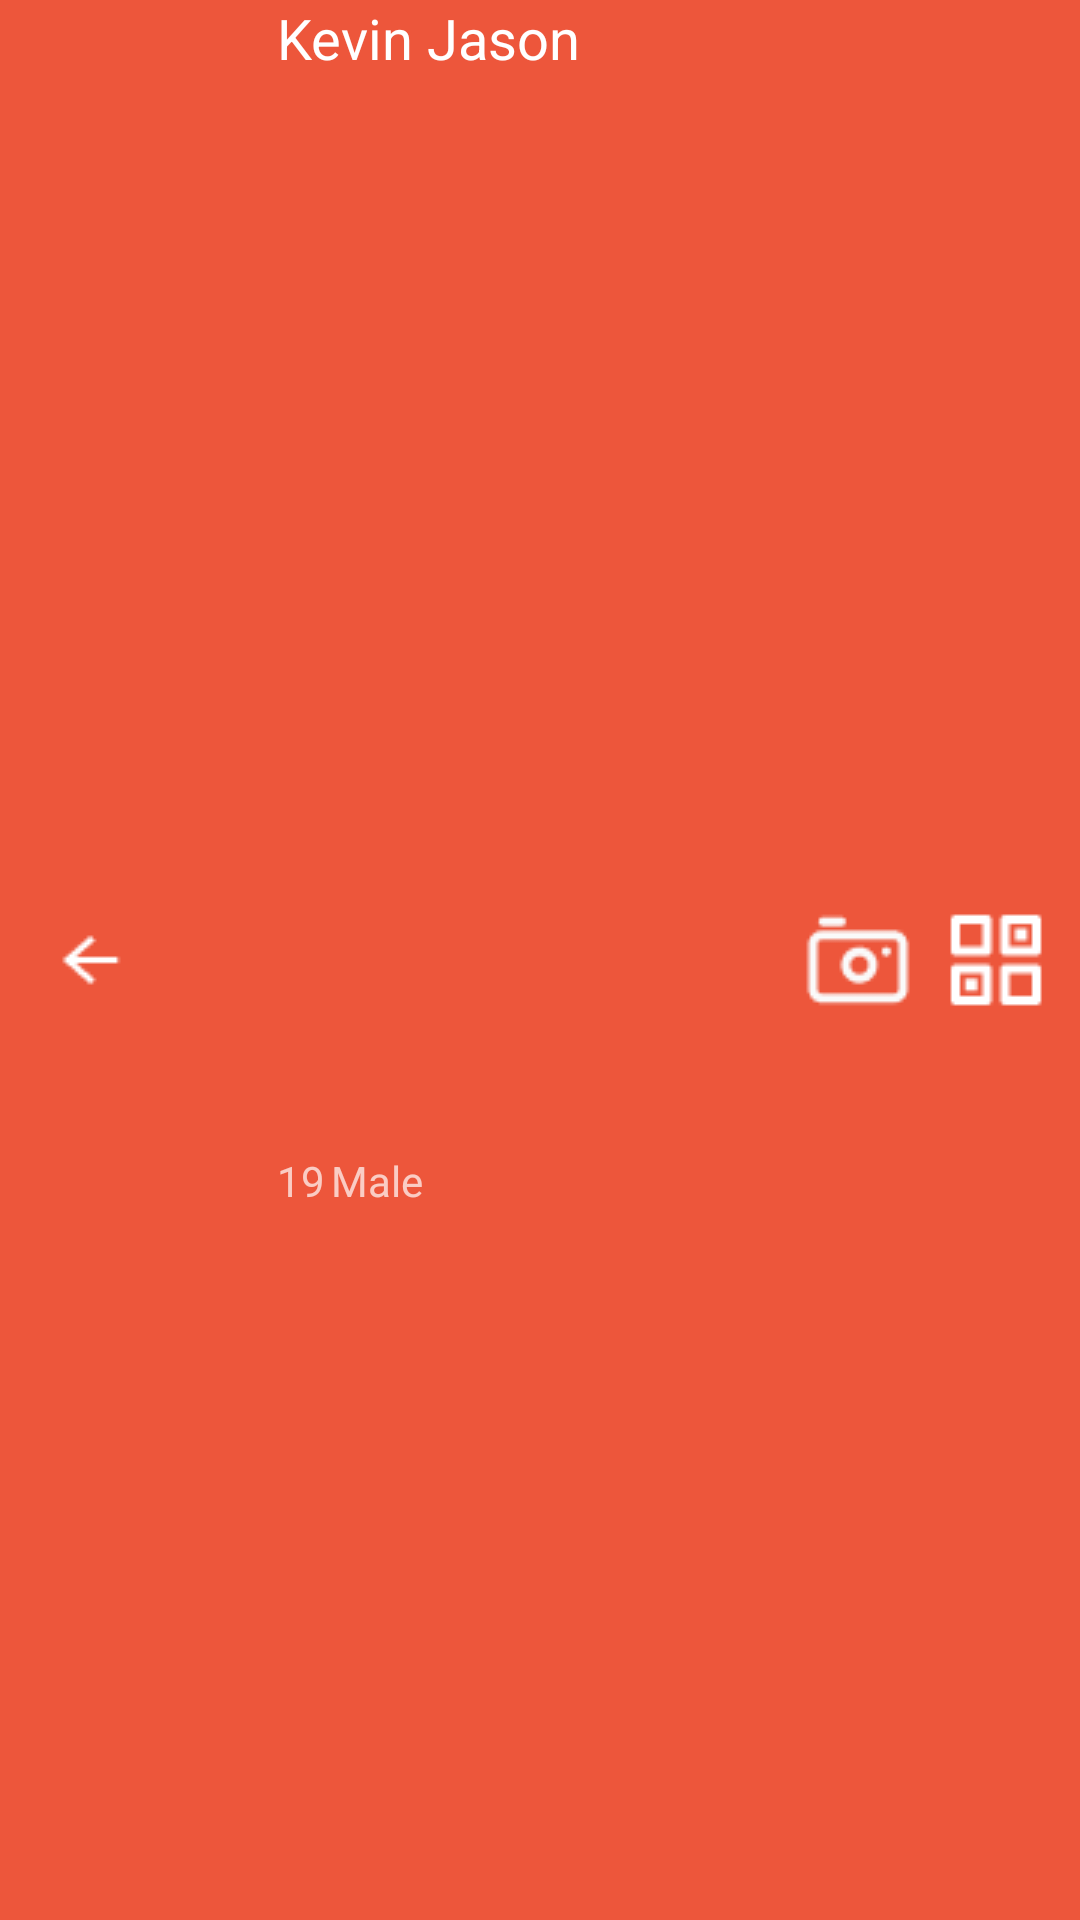

Icon bounding boxes for this 1080x1920 phone screenshot, format (x1,y1,x2,y2):
back: (62,935,120,985)
